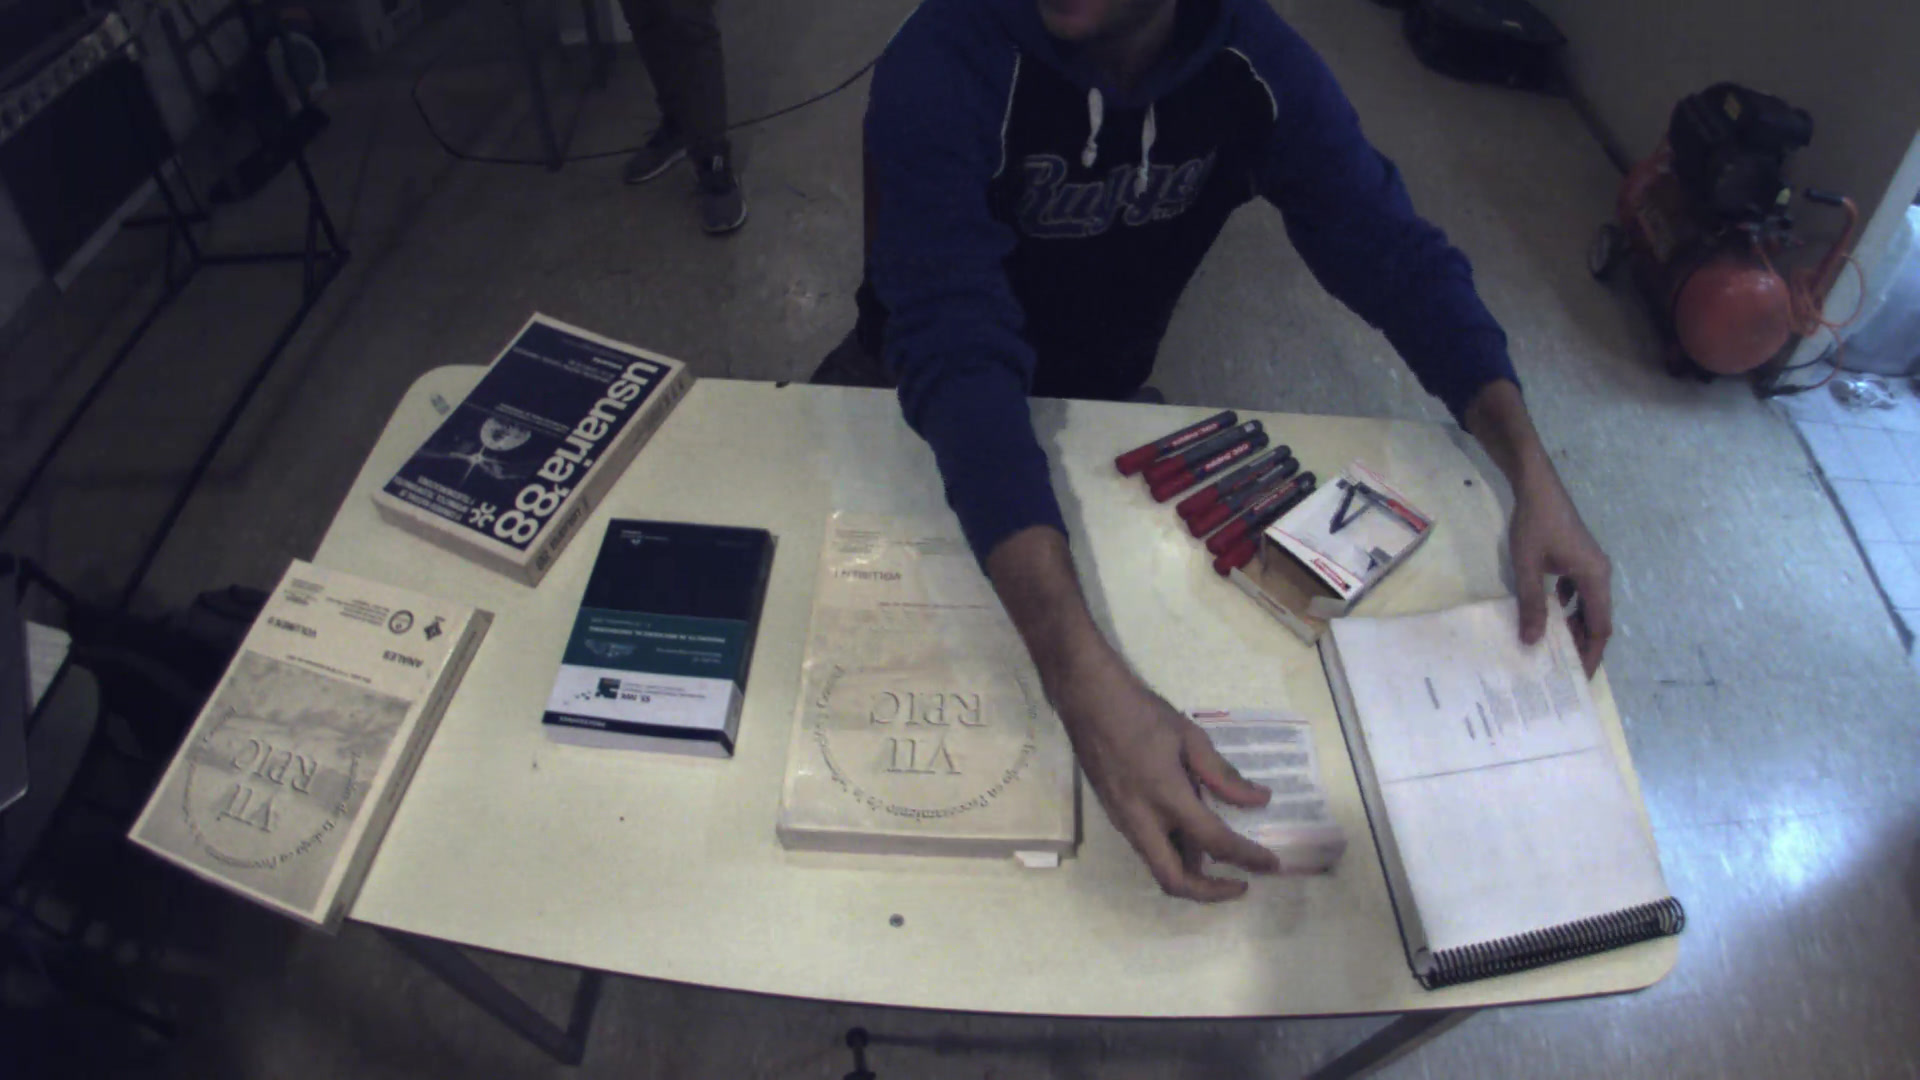hand: (1083, 691, 1300, 919), (1503, 487, 1619, 669)
